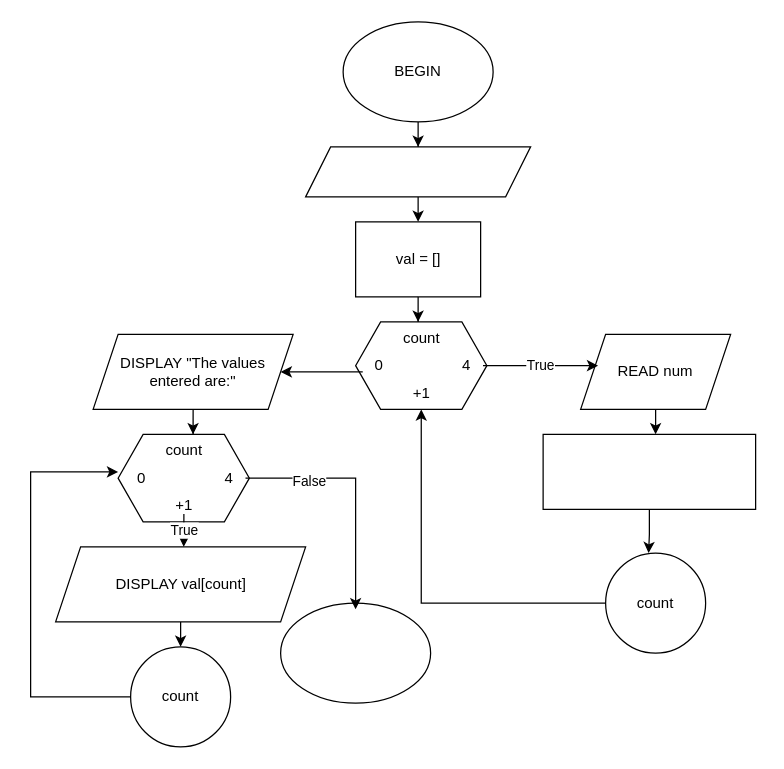
Some shapes in this 784 by 769 pixel diagram are drawn without their labels. Each missing label, with the centre of its shape:
Append Num to val[]: the point at 649,471
DISPLAY "Enter 5 values": the point at 417,171
END: the point at 355,652
